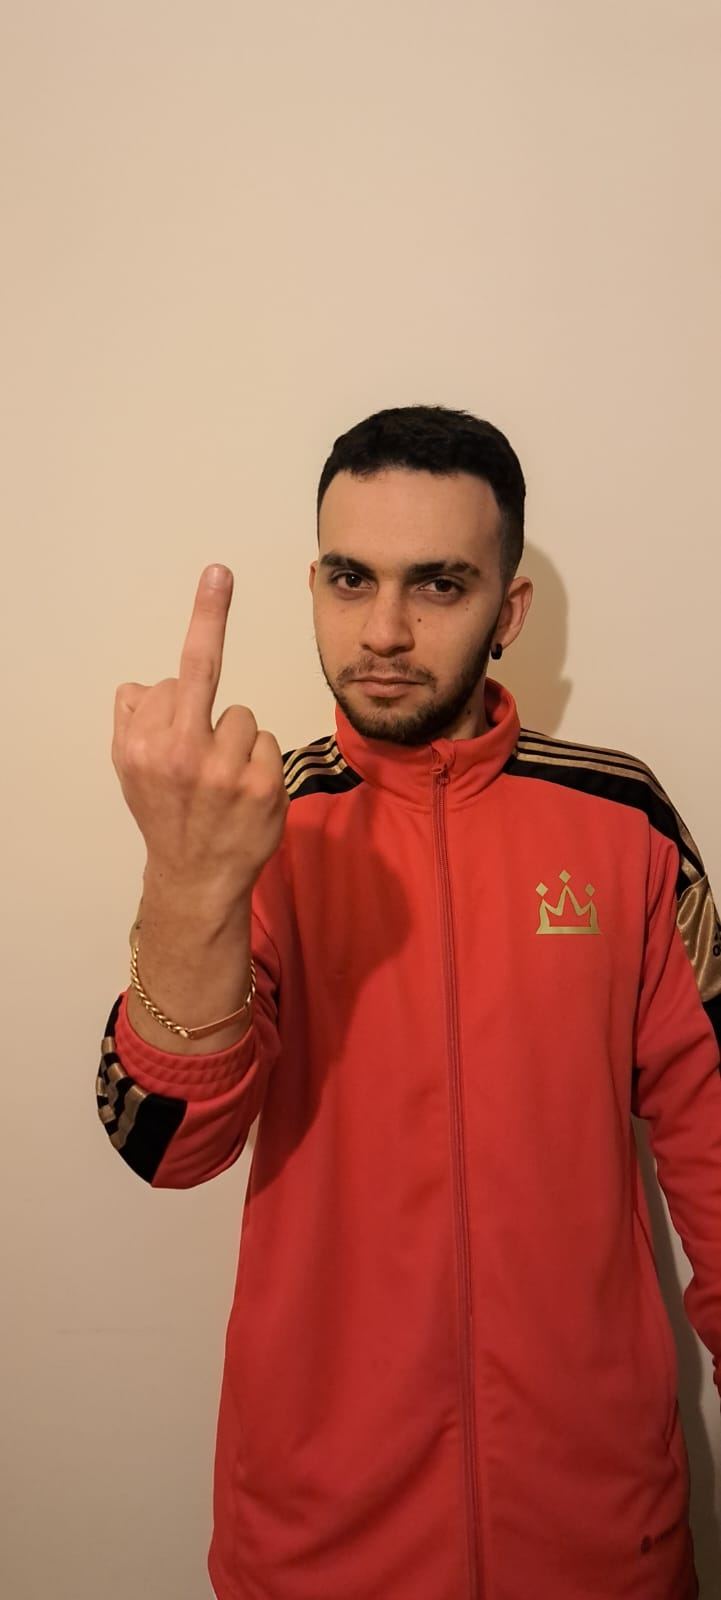fck: (101, 551, 294, 878)
